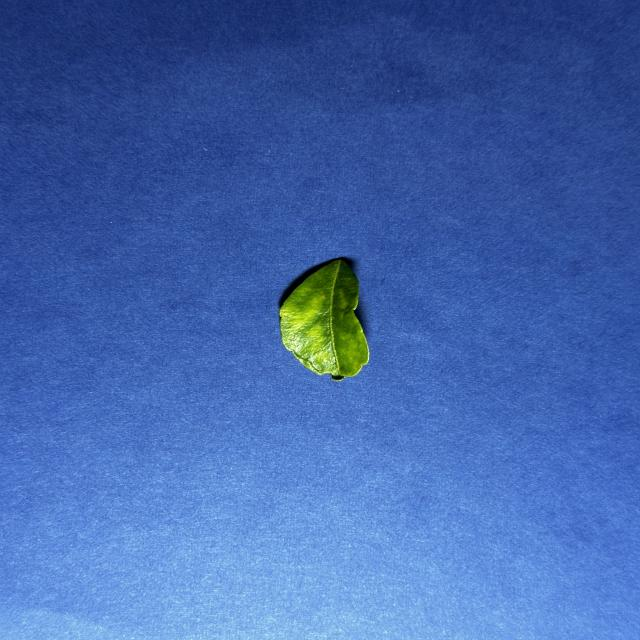greening: (280, 260, 369, 380)
